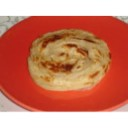parota: (31, 30, 109, 91)
